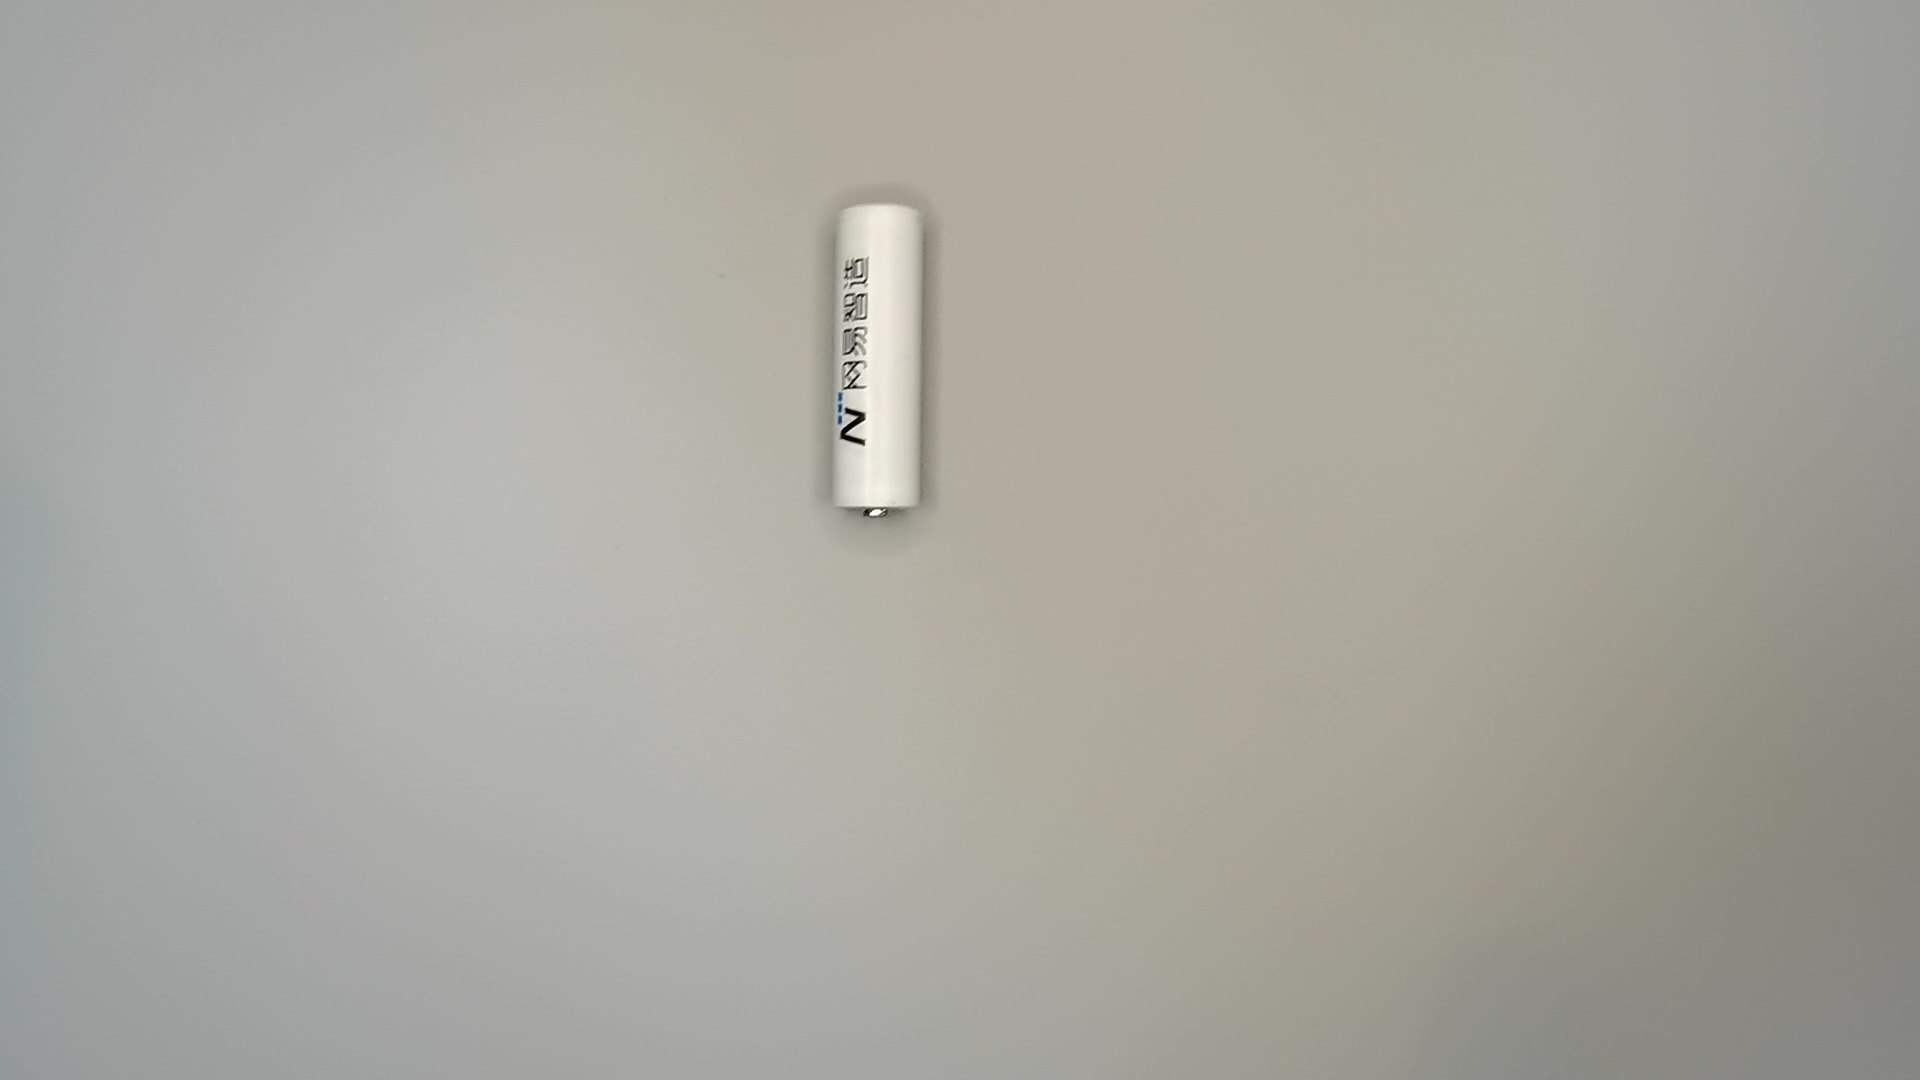battery: (815, 196, 942, 520)
